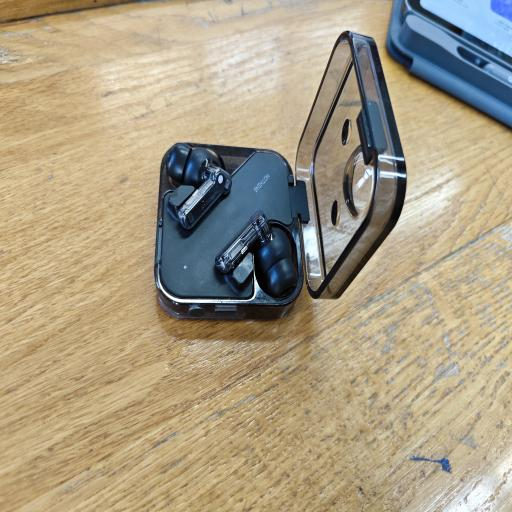CASTI: (150, 26, 414, 326)
